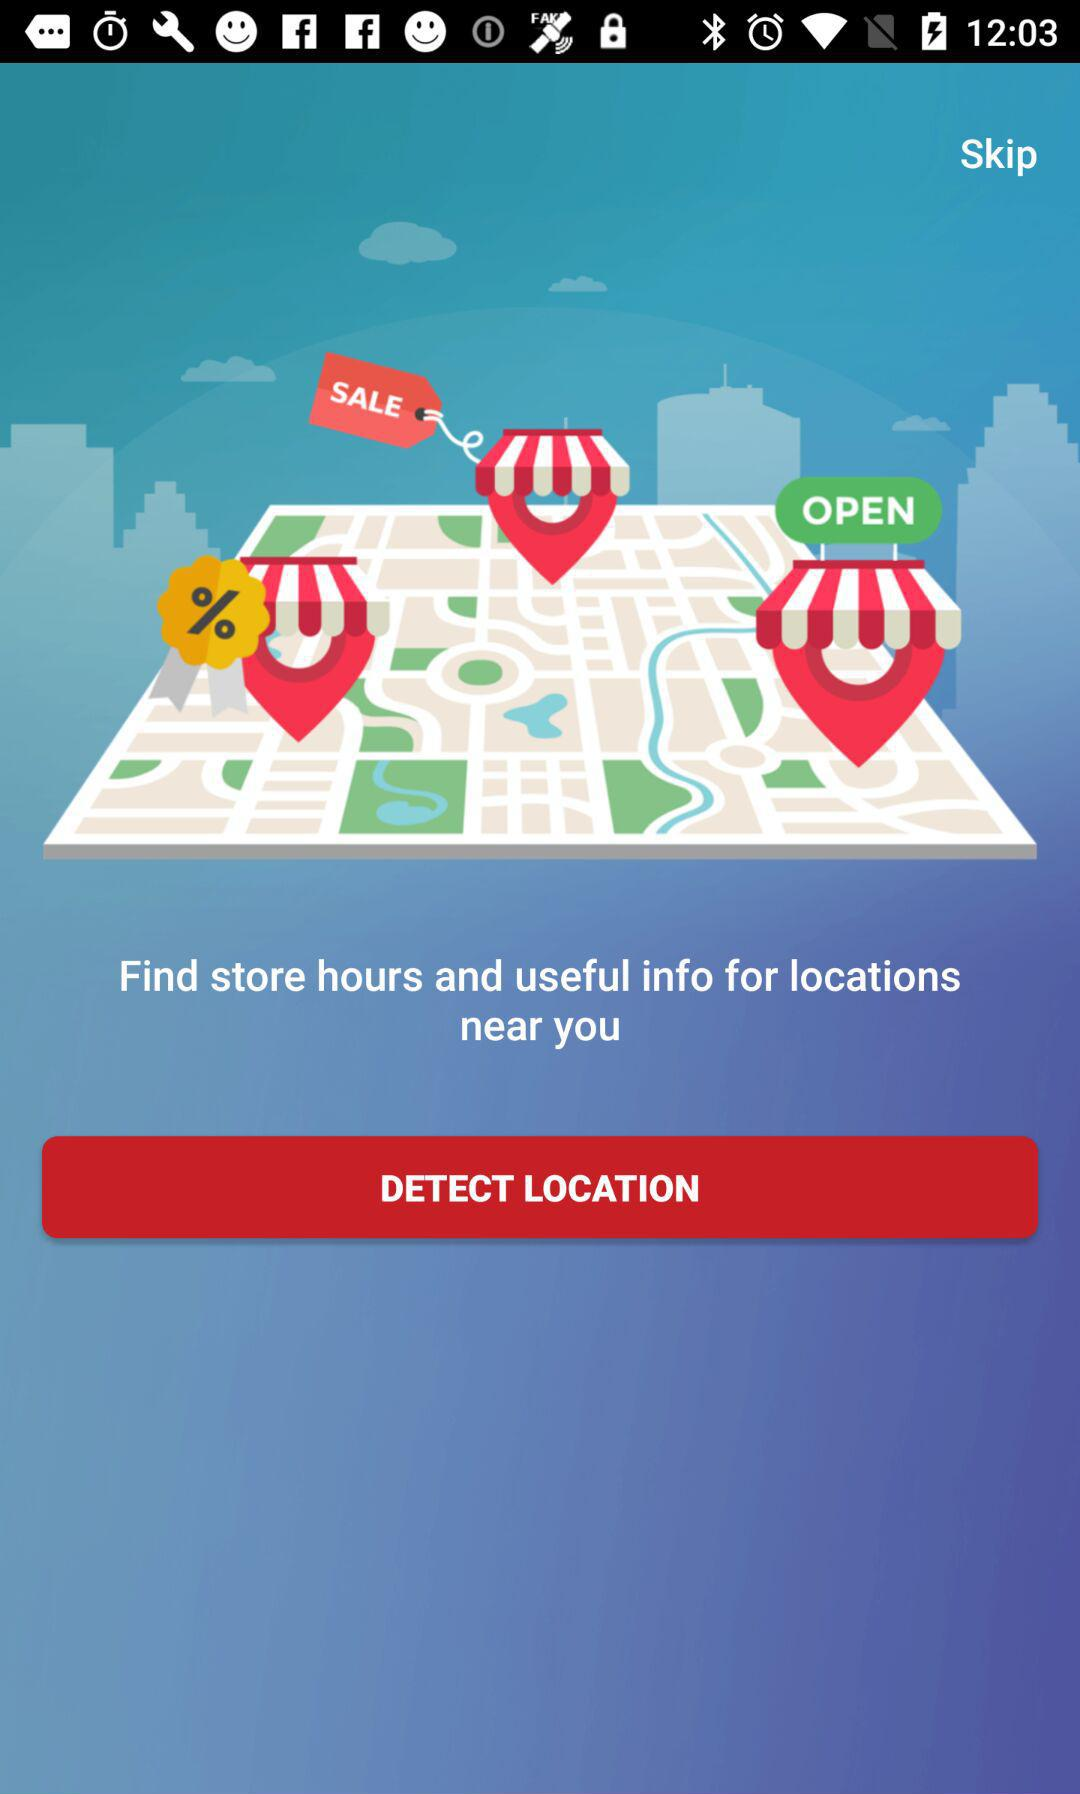Image: (1, 220, 1079, 860)
Text: (119, 953, 962, 1055), (960, 136, 1038, 179)
TextButton: (42, 1135, 1039, 1239)
UpperTaskBar: (1, 1, 1080, 64)
